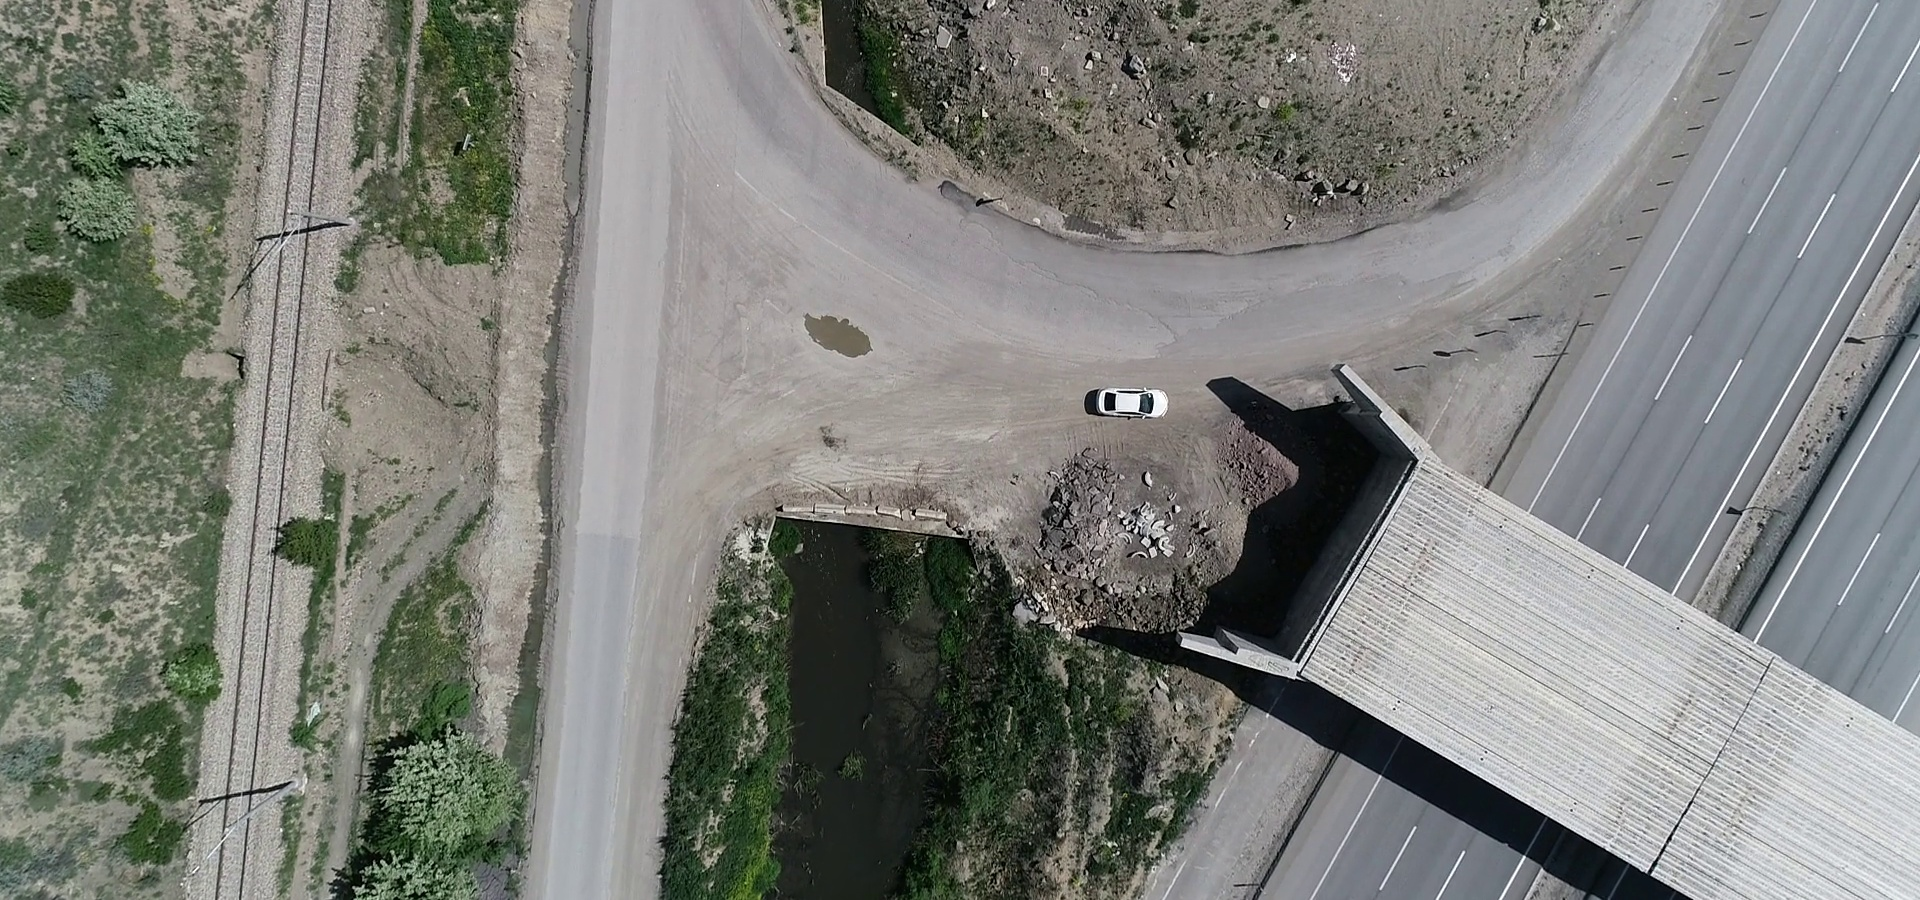arac: (1092, 383, 1187, 426)
